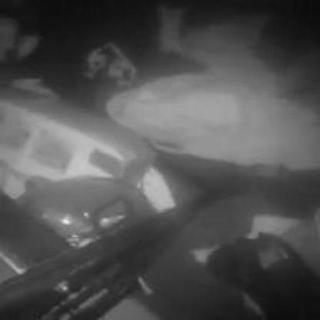other: (16, 77, 67, 109)
